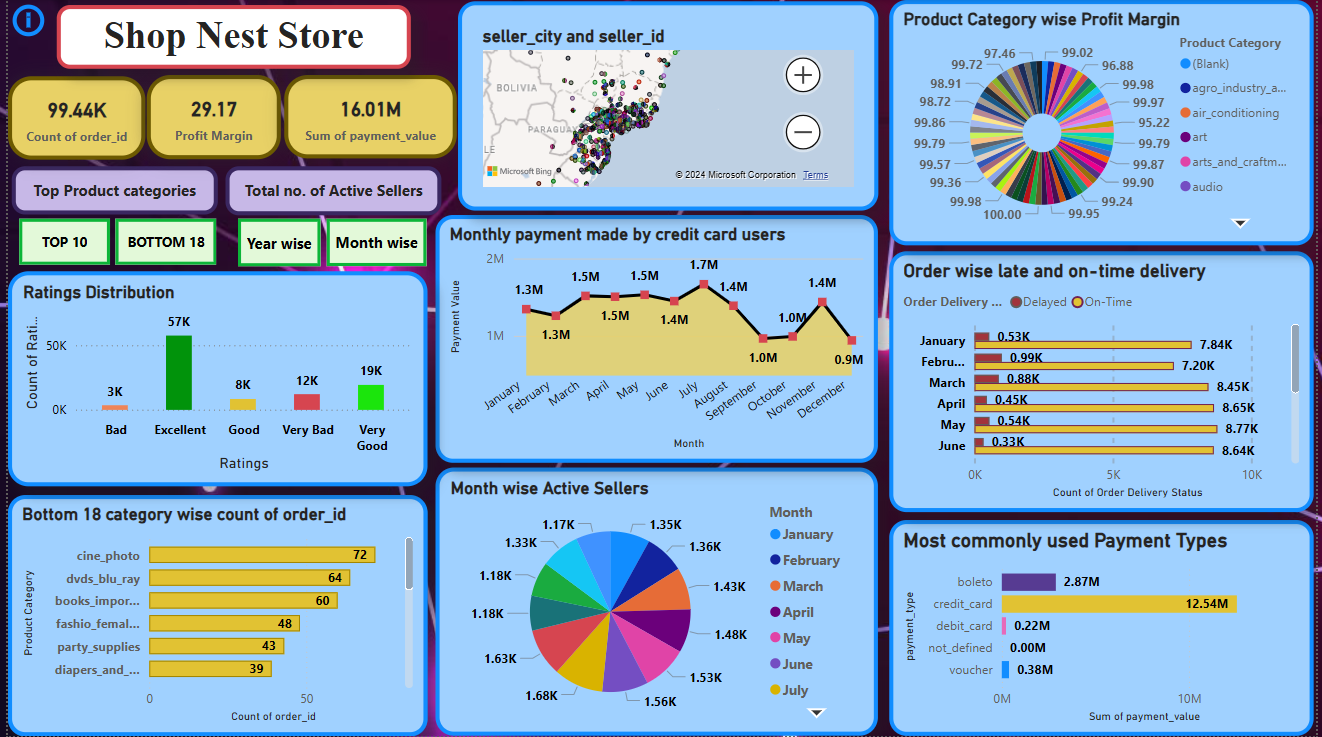

What the dashboard file says about the page in this screenshot:
{"tool":"powerbi","page":{"name":"Dashboard","canvas":[1280,720],"ordinal":0},"visuals":[{"type":"barChart","title":"Top 10 Category wise count of order_id","fields":{"Category":["product_category_name_translation.product_category_name_english"],"Y":["CountNonNull(Nexusgoods_order_items_dataset.order_id)"]},"box":[0,485,410,235],"z":0},{"type":"barChart","title":"Bottom 18 category wise count of order_id","fields":{"Category":["product_category_name_translation.product_category_name_english"],"Y":["CountNonNull(Nexusgoods_order_items_dataset.order_id)"]},"box":[0,483.8,410,236.2],"z":1000},{"type":"textbox","box":[3.8,162.5,201.2,47.5],"z":2000},{"type":"actionButton","box":[11.2,214,88.8,45],"z":3000},{"type":"actionButton","box":[104.9,214,98.8,45],"z":4000},{"type":"card","fields":{"Values":["Count(Nexusgoods_orders_dataset.order_id)"]},"box":[0,74.4,134.5,81.9],"z":5000},{"type":"card","fields":{"Values":["Measuress.Profit Margin"]},"box":[136.2,73.8,131.2,82.5],"z":6000},{"type":"card","fields":{"Values":["Sum(Nexusgoods_order_payments_dataset.payment_value)"]},"box":[270.2,73.4,168.8,81.9],"z":7000},{"type":"pieChart","title":"Month wise Active Sellers","fields":{"Category":["Nexusgoods_orders_dataset.order_purchase_timestamp.Variation.Date Hierarchy.Month"],"Y":["Count(Nexusgoods_order_items_dataset.seller_id)"]},"box":[418.8,457.5,432.5,262.5],"z":8000},{"type":"textbox","box":[212.3,162.6,211.6,47.7],"z":10000},{"type":"actionButton","box":[224.8,214,80.7,46.5],"z":11000},{"type":"actionButton","box":[311.2,213.8,97.5,46.2],"z":12000},{"type":"barChart","title":"Most commonly used Payment Types","fields":{"Y":["Sum(Nexusgoods_order_payments_dataset.payment_value)"],"Category":["Nexusgoods_order_payments_dataset.payment_type"]},"box":[862.5,508.8,415,211.2],"z":13000},{"type":"areaChart","title":"Monthly payment made by credit card users","fields":{"Category":["Nexusgoods_orders_dataset.order_purchase_timestamp.Variation.Date Hierarchy.Month"],"Y":["Sum(Nexusgoods_order_payments_dataset.payment_value)"]},"box":[418.8,210,432.5,242.5],"z":14000},{"type":"clusteredBarChart","title":"Order wise late and on-time delivery","fields":{"Category":["Nexusgoods_orders_dataset.order_purchase_timestamp.Variation.Date Hierarchy.Month"],"Series":["Nexusgoods_orders_dataset.Order Delivery Status"],"Y":["CountNonNull(Nexusgoods_orders_dataset.Order Delivery Status)"]},"box":[862.5,246.2,415,255],"z":15000},{"type":"map","fields":{"Series":["Nexusgoods_sellers_dataset.seller_id"],"Category":["Nexusgoods_sellers_dataset.seller_city"]},"box":[440,1.2,411.2,205],"z":16000},{"type":"donutChart","title":"Product Category wise Profit Margin","fields":{"Category":["product_category_name_translation.product_category_name_english"],"Y":["Measuress.Profit Margin"]},"box":[862.5,0,415,240],"z":17000},{"type":"actionButton","box":[0,0,45,40],"z":18000},{"type":"textbox","box":[47.5,5,346.2,62.5],"z":19000},{"type":"columnChart","title":"Ratings Distribution","fields":{"Category":["Nexusgoods_order_reviews_dataset.Ratings"],"Y":["CountNonNull(Nexusgoods_order_reviews_dataset.Ratings)"]},"box":[0,265,410,210],"z":20000}]}

Visuals, with their boxes in screenshot pixels (x1, y1, x2, y2), scaled from the page's 1280x720 canvas onto the 1322x737 screenshot:
"Top 10 Category wise count of order_id" barChart: {"left": 0, "top": 496, "right": 423, "bottom": 736}
"Bottom 18 category wise count of order_id" barChart: {"left": 0, "top": 495, "right": 423, "bottom": 736}
textbox: {"left": 4, "top": 166, "right": 212, "bottom": 215}
actionButton: {"left": 12, "top": 219, "right": 103, "bottom": 265}
actionButton: {"left": 108, "top": 219, "right": 210, "bottom": 265}
card - Count(Nexusgoods_orders_dataset.order_id): {"left": 0, "top": 76, "right": 139, "bottom": 160}
card - Measuress.Profit Margin: {"left": 141, "top": 76, "right": 276, "bottom": 160}
card - Sum(Nexusgoods_order_payments_dataset.payment_value): {"left": 279, "top": 75, "right": 453, "bottom": 159}
"Month wise Active Sellers" pieChart: {"left": 433, "top": 468, "right": 879, "bottom": 736}
textbox: {"left": 219, "top": 166, "right": 438, "bottom": 215}
actionButton: {"left": 232, "top": 219, "right": 316, "bottom": 267}
actionButton: {"left": 321, "top": 219, "right": 422, "bottom": 266}
"Most commonly used Payment Types" barChart: {"left": 891, "top": 521, "right": 1319, "bottom": 736}
"Monthly payment made by credit card users" areaChart: {"left": 433, "top": 215, "right": 879, "bottom": 463}
"Order wise late and on-time delivery" clusteredBarChart: {"left": 891, "top": 252, "right": 1319, "bottom": 513}
map - Nexusgoods_sellers_dataset.seller_id x Nexusgoods_sellers_dataset.seller_city: {"left": 454, "top": 1, "right": 879, "bottom": 211}
"Product Category wise Profit Margin" donutChart: {"left": 891, "top": 0, "right": 1319, "bottom": 246}
actionButton: {"left": 0, "top": 0, "right": 46, "bottom": 41}
textbox: {"left": 49, "top": 5, "right": 407, "bottom": 69}
"Ratings Distribution" columnChart: {"left": 0, "top": 271, "right": 423, "bottom": 486}
